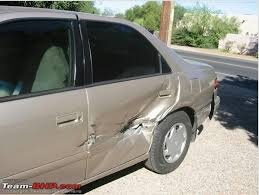Dent: (112, 80, 175, 142), (75, 121, 107, 155)
Smashed: (202, 86, 221, 122)
